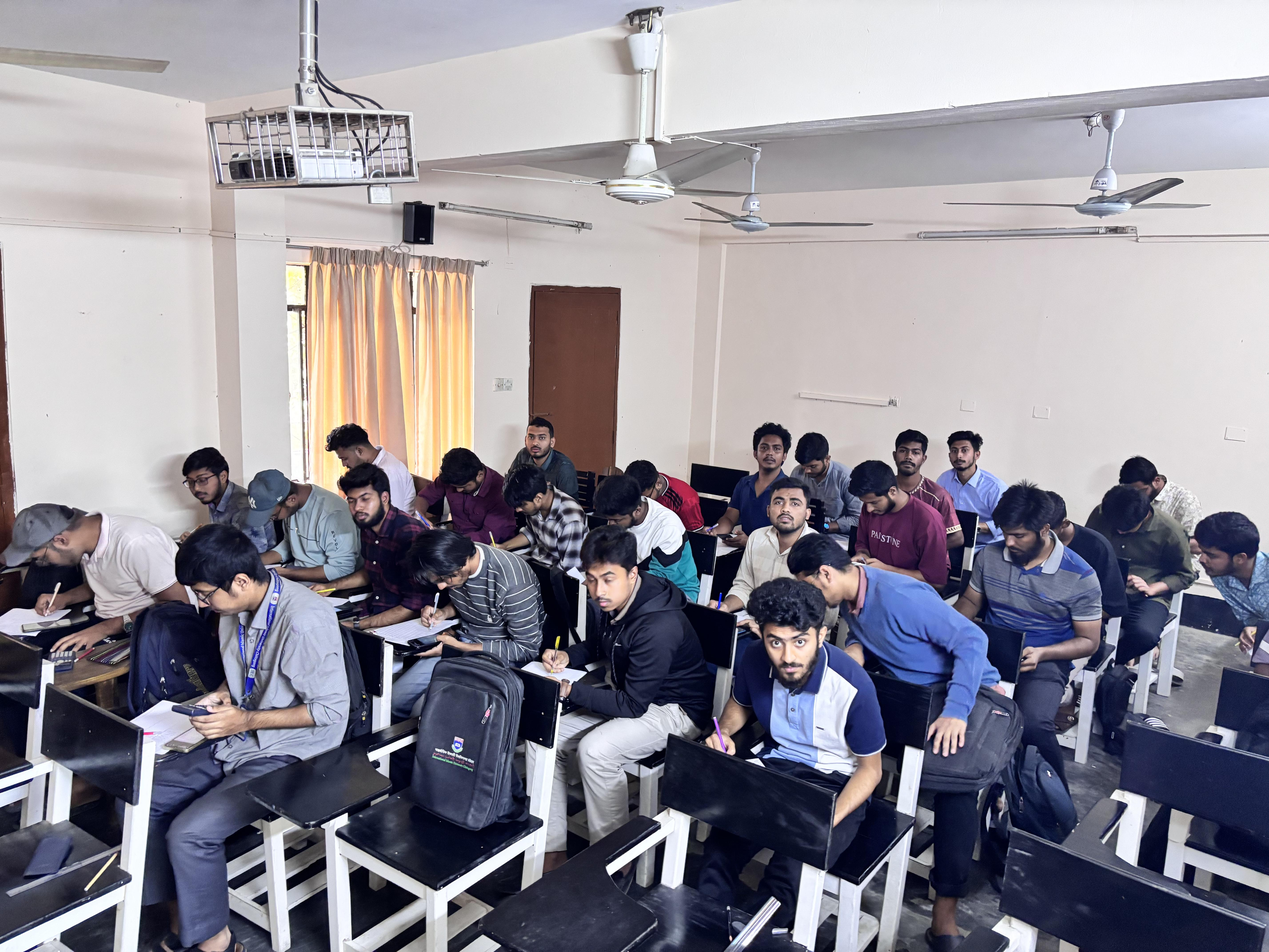copying: (784, 532, 1028, 738), (1185, 494, 1269, 662)
no_cheating: (692, 581, 918, 820), (149, 514, 337, 790), (540, 528, 700, 778), (963, 468, 1095, 702), (11, 488, 174, 654), (723, 475, 836, 628), (576, 471, 692, 592), (1087, 477, 1185, 613), (237, 462, 344, 586), (328, 456, 411, 612), (841, 459, 947, 574), (166, 433, 257, 558), (319, 426, 428, 528), (493, 457, 585, 574), (418, 443, 501, 548), (728, 416, 796, 514), (786, 422, 854, 517), (505, 416, 588, 492), (888, 427, 946, 517), (941, 417, 998, 497)
using_phone: (394, 521, 532, 693)
